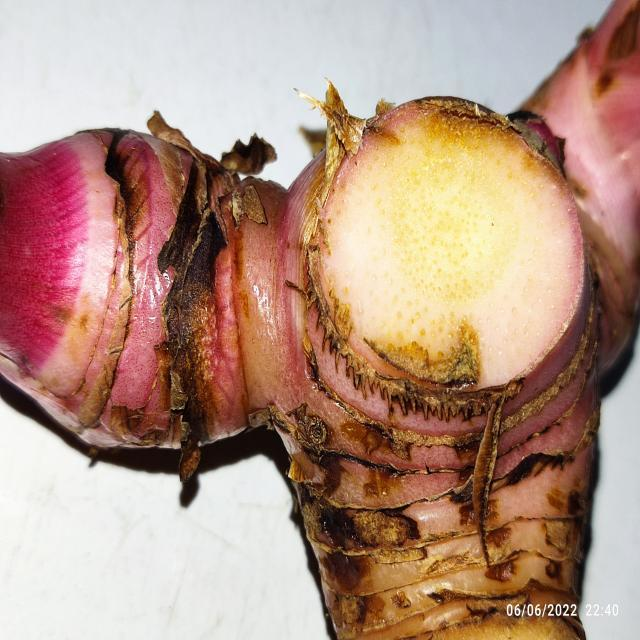ginger: (17, 19, 640, 584)
